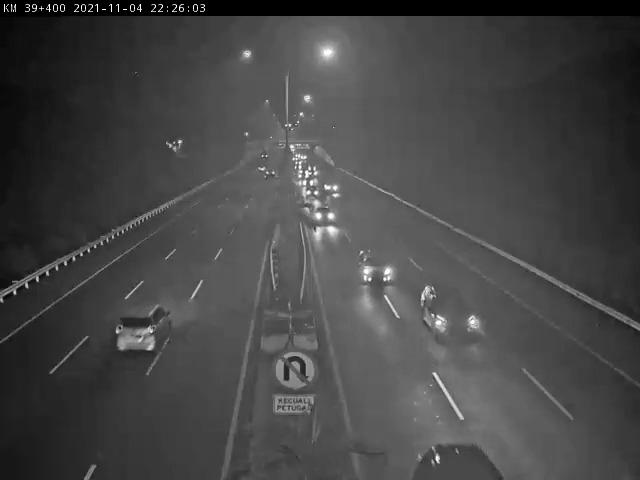car: (419, 279, 489, 347), (418, 435, 504, 480), (113, 301, 178, 355), (355, 236, 398, 296), (312, 202, 341, 225), (322, 180, 342, 195), (302, 185, 319, 200)
